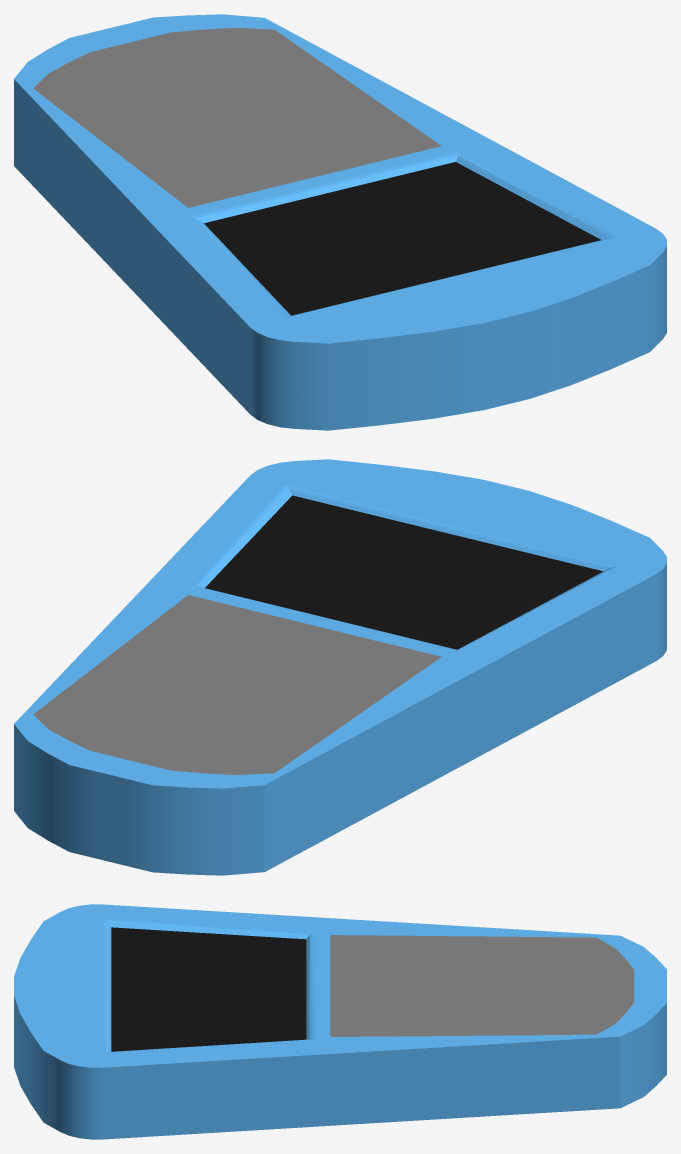
Rendered from PDA.fbx.
The picture shows the model from 3 angles, top to bottom: view 1: azimuth 30°, elevation 25°; view 2: azimuth 150°, elevation 25°; view 3: azimuth 270°, elevation 25°; orthographic projection. The views are drawn at different scales.
Parts seen in each view (by area): view 1: PDA; view 2: PDA; view 3: PDA.
Boxes of the visible parts, x1,y1,x2,y2 form: PDA: [14, 14, 666, 430]; PDA: [14, 459, 666, 875]; PDA: [14, 904, 666, 1139].
Size of the model in its own units: 1.55 by 0.3176 by 2.62.
Materials: 3 (3 with a texture image).
